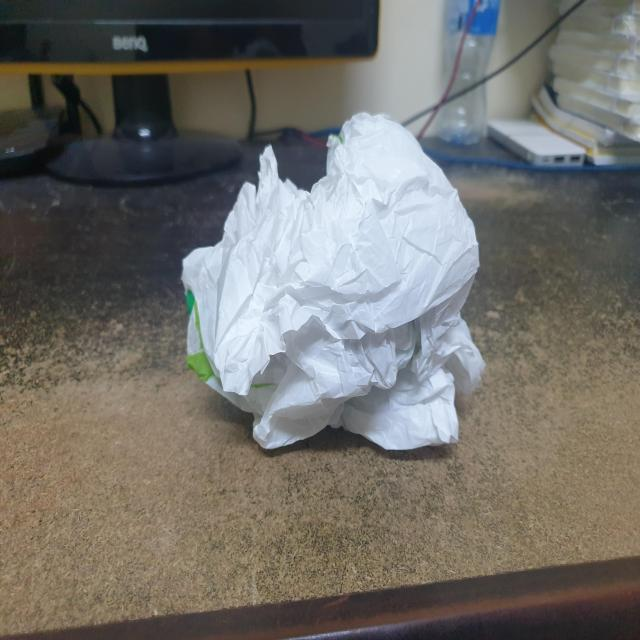plastic bag: (181, 110, 489, 455)
